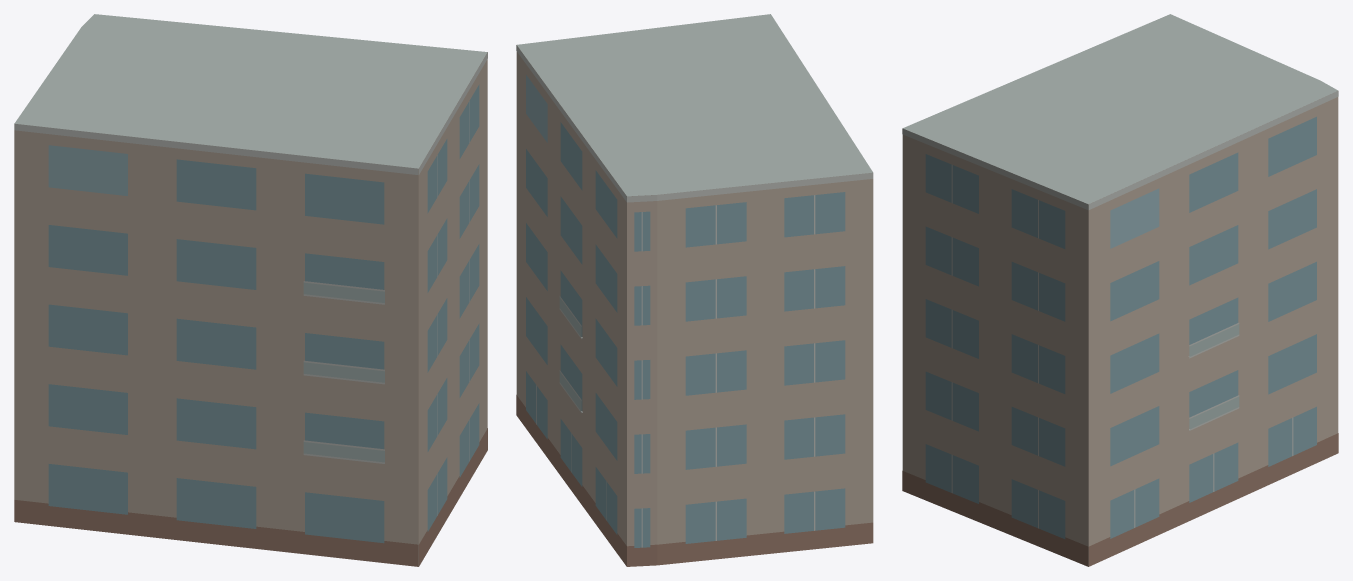
The model's file is survey-upis-32986480.glb.
3 renders of one model, left to right at view 1: azimuth 30°, elevation 25°; view 2: azimuth 150°, elevation 25°; view 3: azimuth 270°, elevation 25°, orthographic. The views are drawn at different scales.
Visible parts, largest first — view 1: survey-upis-32986480.tmp; view 2: survey-upis-32986480.tmp; view 3: survey-upis-32986480.tmp.
Part boxes in pixels (x1,y1,x2,y2): survey-upis-32986480.tmp: (14, 14, 487, 566); survey-upis-32986480.tmp: (516, 14, 873, 566); survey-upis-32986480.tmp: (902, 14, 1338, 566).
Bounding box in the file's own units: 16.56 × 14.7 × 16.03.
